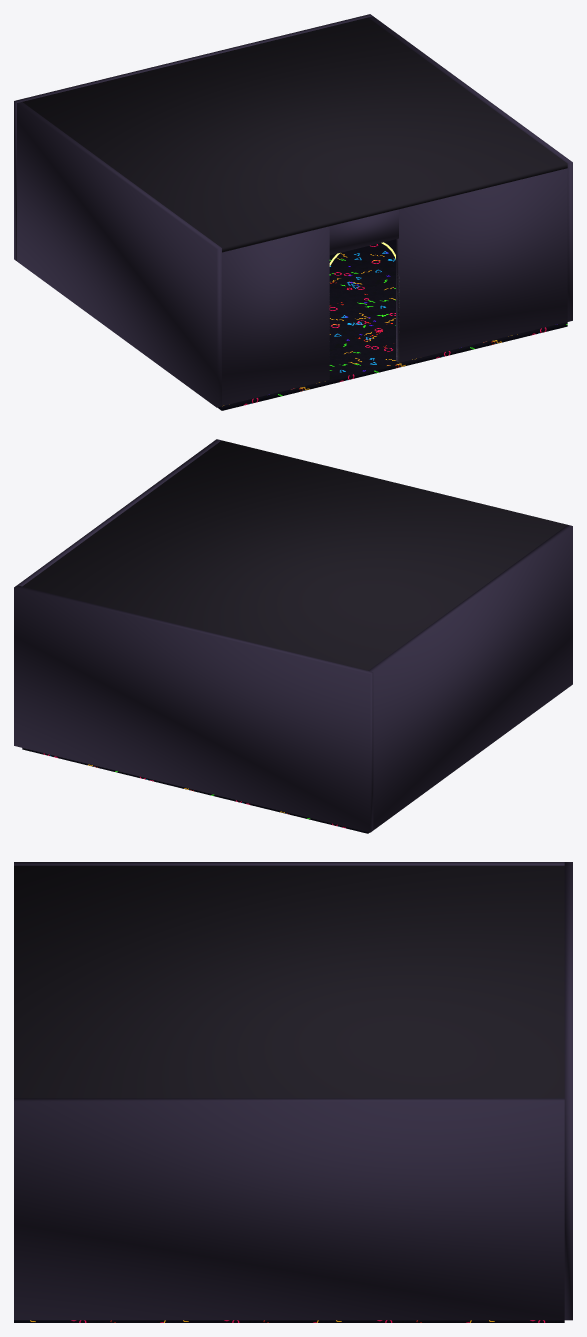
The model's file is arcade.glb.
3 views of the same model, one above another, from view 1: azimuth 30°, elevation 25°; view 2: azimuth 150°, elevation 25°; view 3: azimuth 270°, elevation 25° (orthographic). The views are drawn at different scales.
Parts seen in each view (by area): view 1: Arcade wall, Arcade ceiling, Arcade floor; view 2: Arcade wall, Arcade ceiling, Arcade floor; view 3: Arcade wall, Arcade ceiling, Arcade floor.
Boxes of the visible parts, left/top/right/bottom form: Arcade wall: left=14, top=14, right=572, bottom=407; Arcade ceiling: left=22, top=17, right=567, bottom=252; Arcade floor: left=217, top=239, right=567, bottom=410; Arcade wall: left=14, top=439, right=572, bottom=832; Arcade ceiling: left=22, top=440, right=567, bottom=670; Arcade floor: left=22, top=748, right=369, bottom=833; Arcade wall: left=14, top=862, right=572, bottom=1320; Arcade ceiling: left=14, top=865, right=564, bottom=1098; Arcade floor: left=14, top=1320, right=564, bottom=1322.
Size of the model in its own units: 8.24 by 3.6 by 8.12.
Materials: 9 (1 with a texture image).
